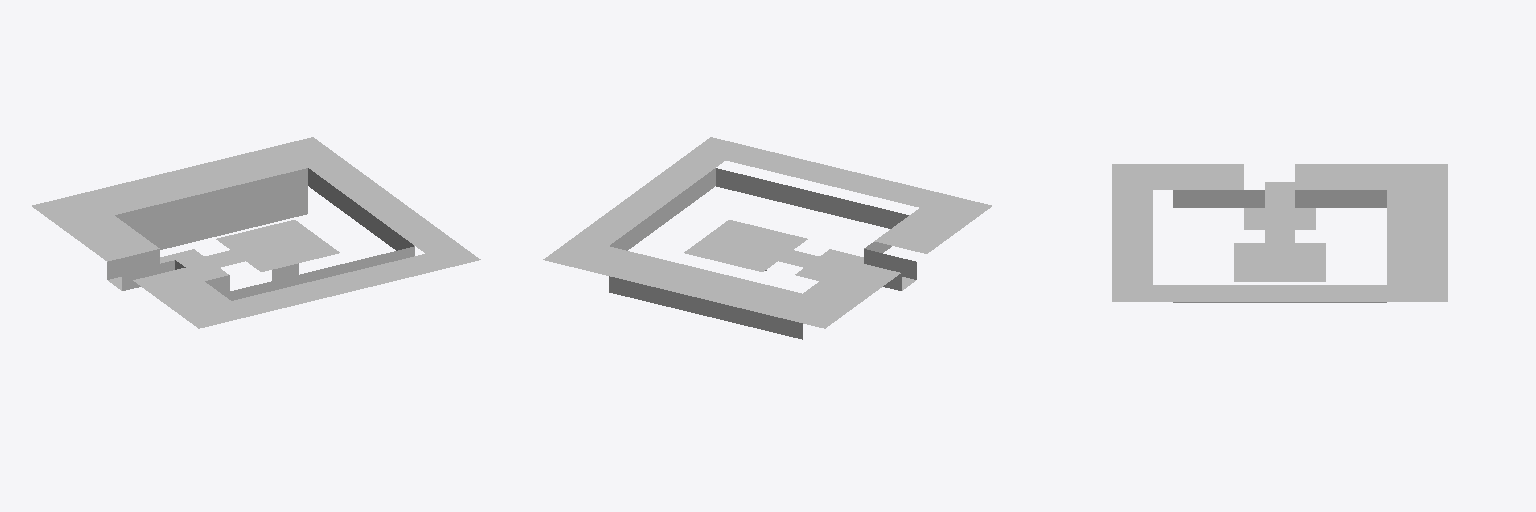
File: lvl_shipGenerator3.obj
3 renders of one model, left to right at view 1: azimuth 30°, elevation 25°; view 2: azimuth 150°, elevation 25°; view 3: azimuth 270°, elevation 25°, orthographic.
Parts seen in each view (by area): view 1: Default; view 2: Default; view 3: Default.
Part boxes in pixels (bbox=[...]): Default: bbox=[32, 137, 480, 328]; Default: bbox=[543, 137, 991, 339]; Default: bbox=[1112, 164, 1447, 302].
Size of the model in its own units: 32 by 5 by 33.